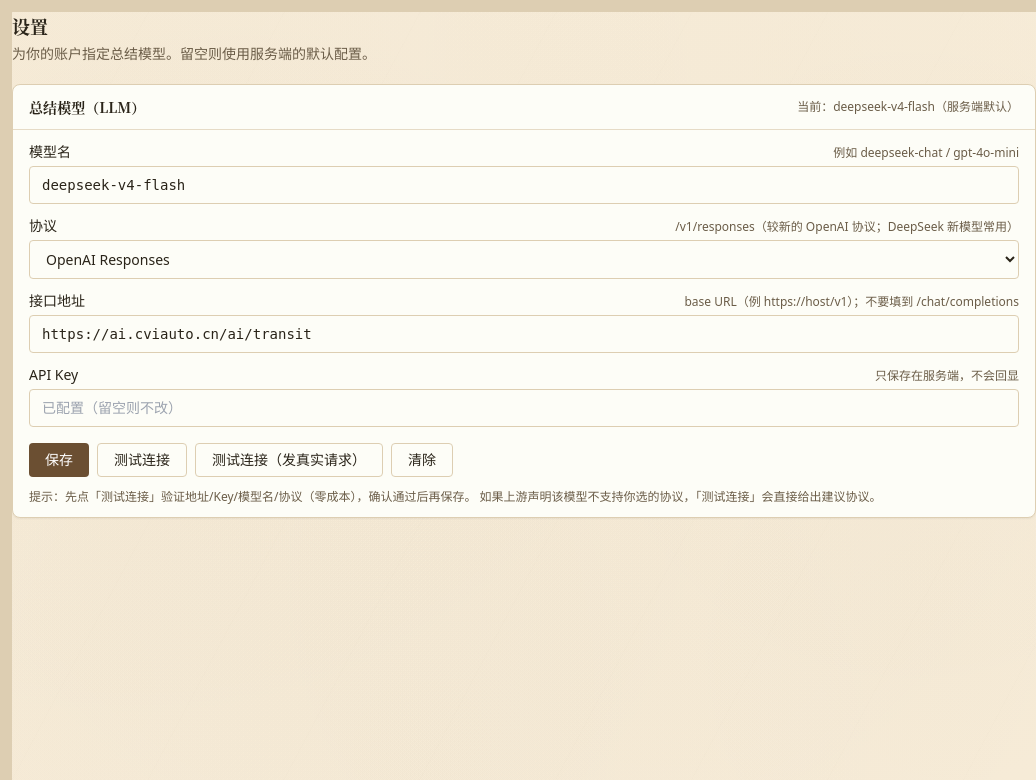
Test case: 设置页：LLM 多协议与连接自检（TASK-113） › 模型名拼错时展示上游可用模型（帮用户改正）
This screenshot has width=1036, height=780.
Step 1. Click the button "测试连接" → (142, 460), box [97, 443, 187, 477]
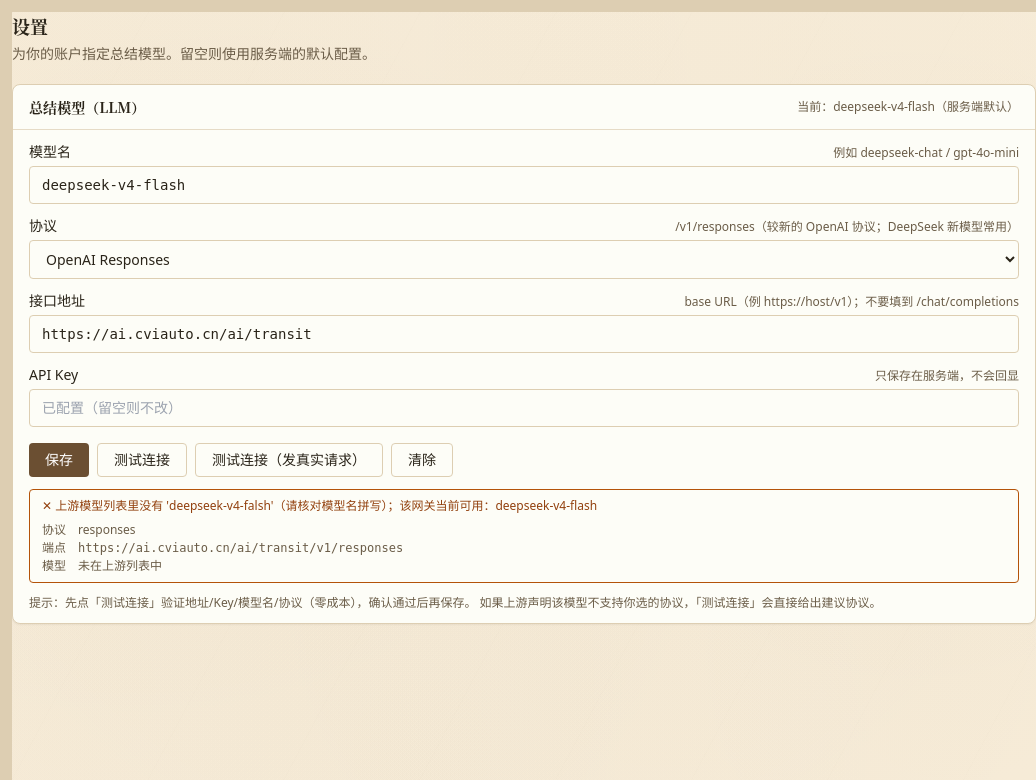
Expected: the element with test id "llm-test-result" shows "deepseek-v4-flash", [55, 497, 597, 514]
Expected: the element with test id "llm-test-result" shows "未在上游列表中", [78, 557, 162, 574]
